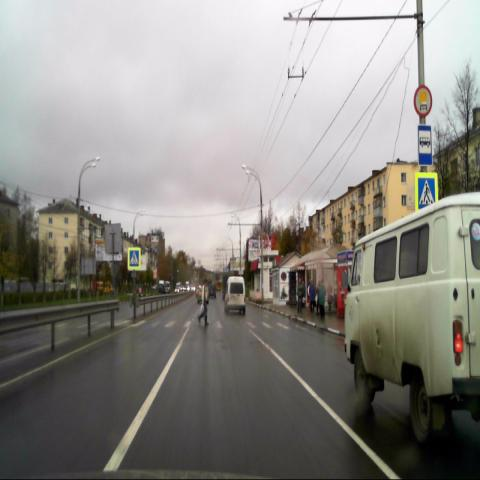3_32: (414, 85, 432, 117)
